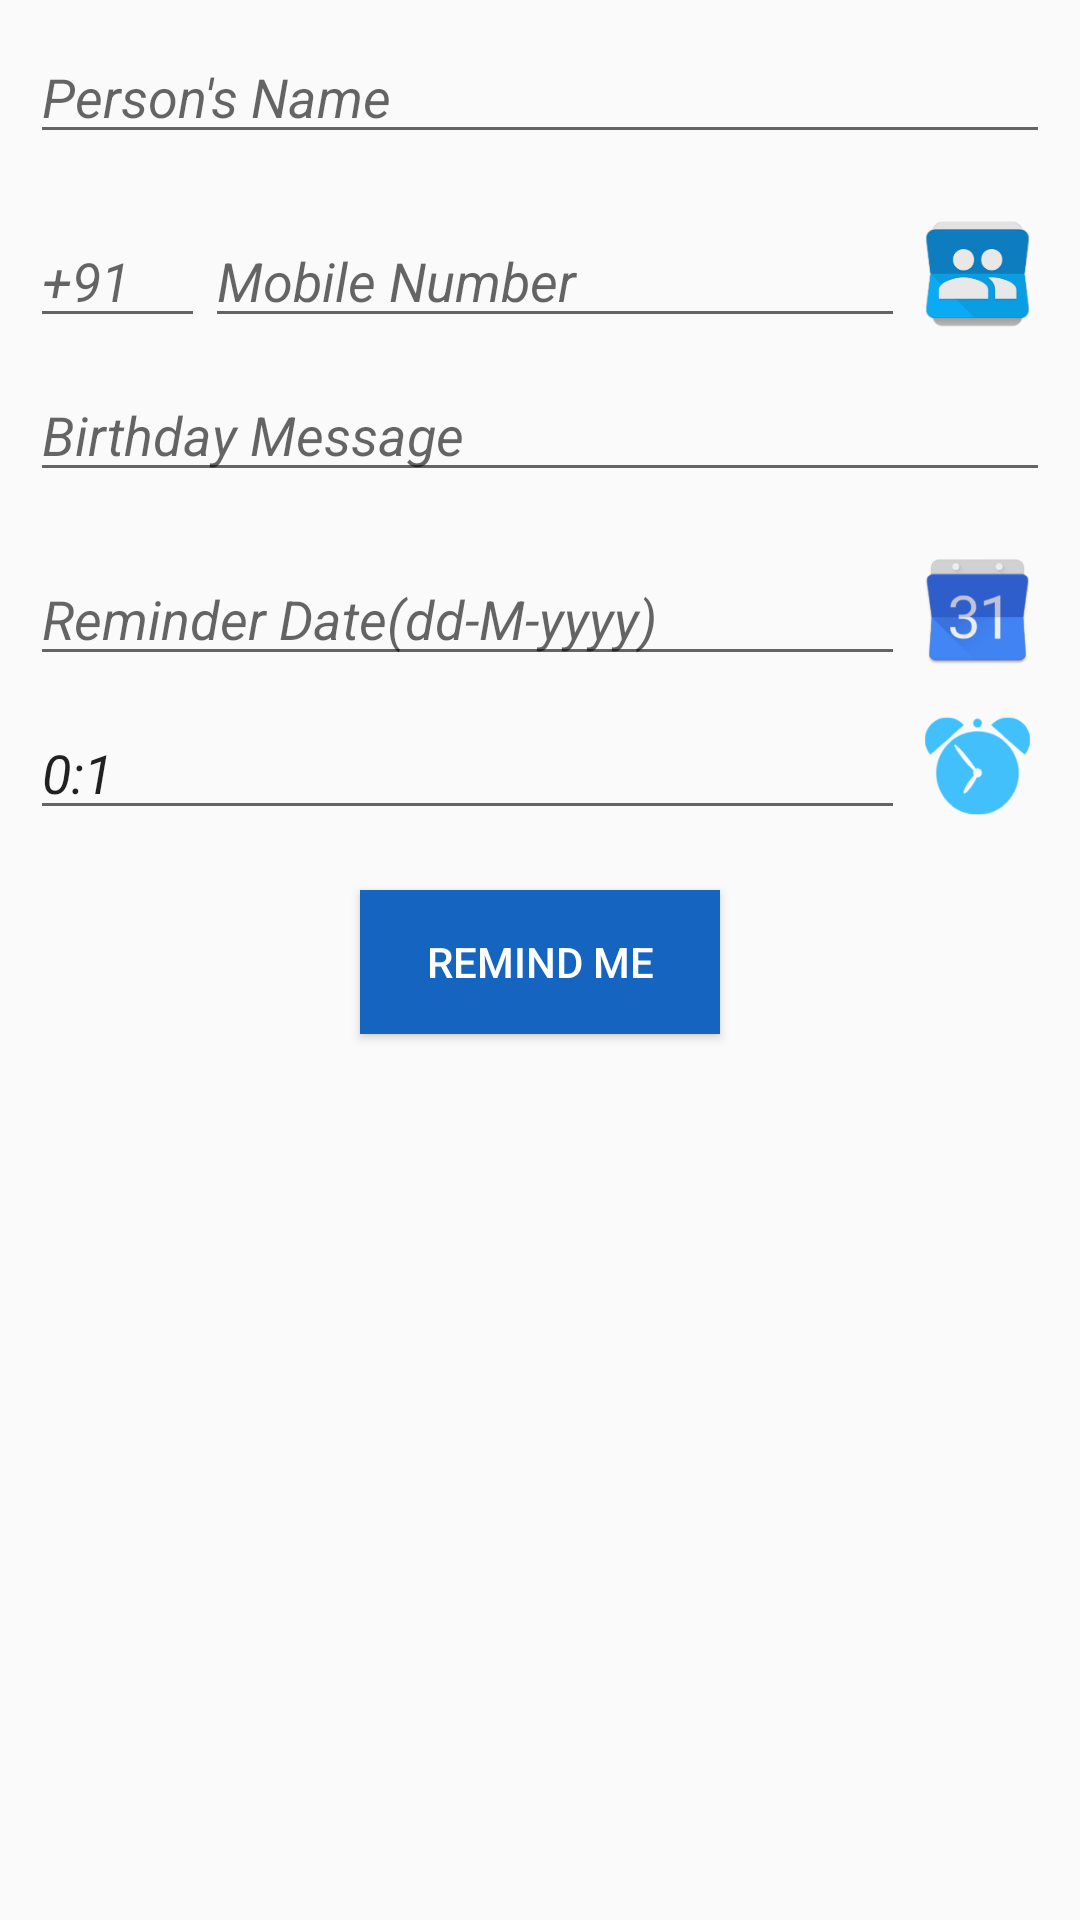

Screen size 1080*1920. Icon name, then its box in pixels as bbox(x1, y1, x2, y2):
clock: bbox(925, 717, 1030, 815)
